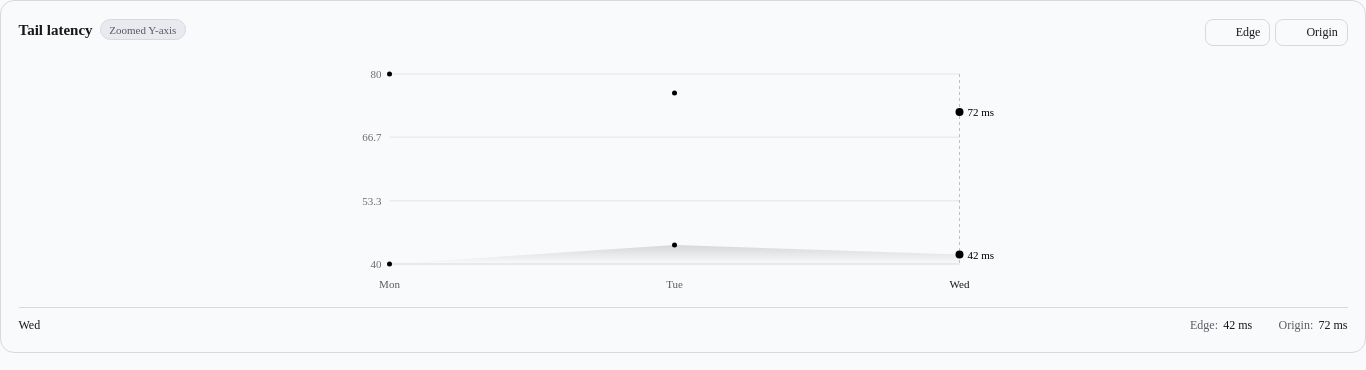
Test case: Anti-slop chart library › supports series toggles, keyboard point inspection, and state fallbacks in AreaTrendChart
The image size is (1366, 370).
Later steps or results of the test are not shown.
expect the text "Zoomed Y-axis" is shown: met, box [109,22,176,38]
Click the button "Edge".
click(1238, 32)  # box [1205,18,1270,46]
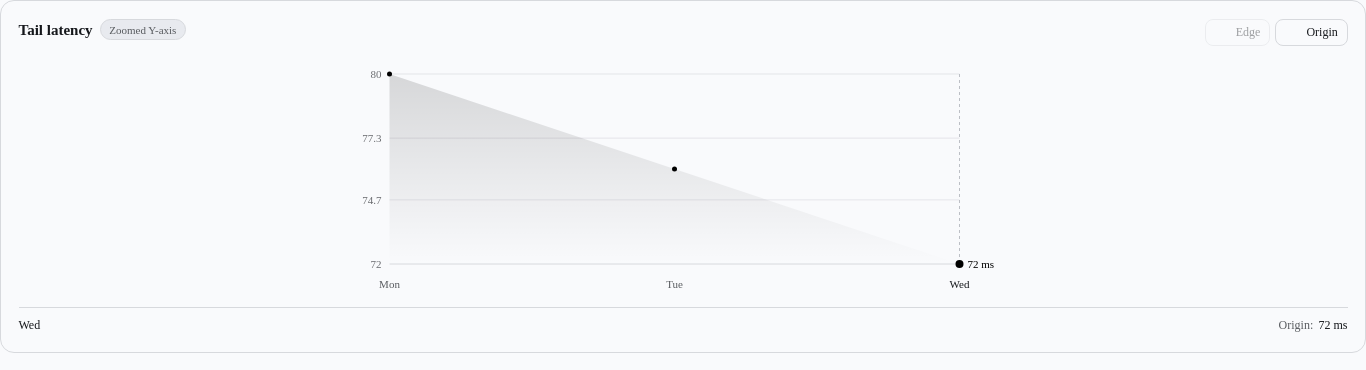
expect the button "Edge" is not pressed: met, box [1205,18,1270,46]
Press Enter in the button "Inspect Mon", box [379,278,399,290]
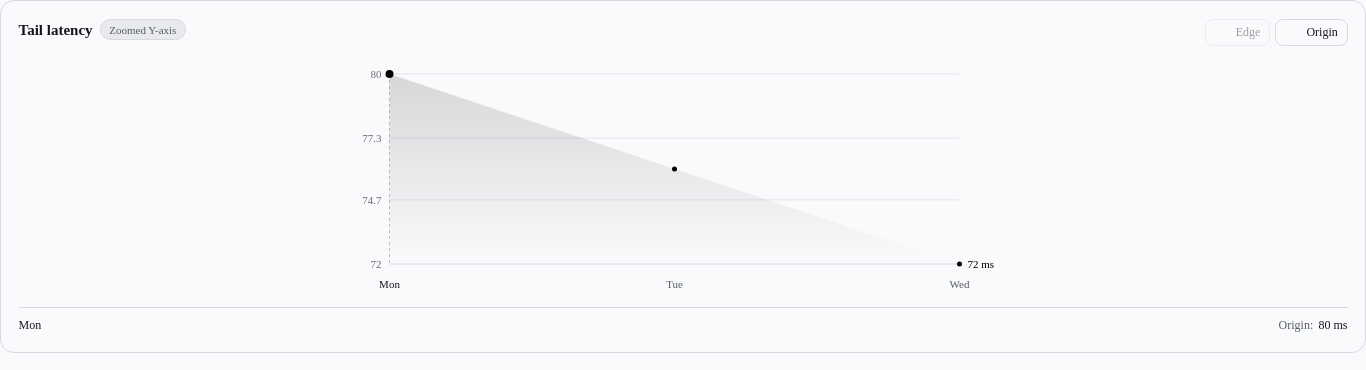
expect the text "80 ms" is shown: met, box [1318,316,1348,334]
